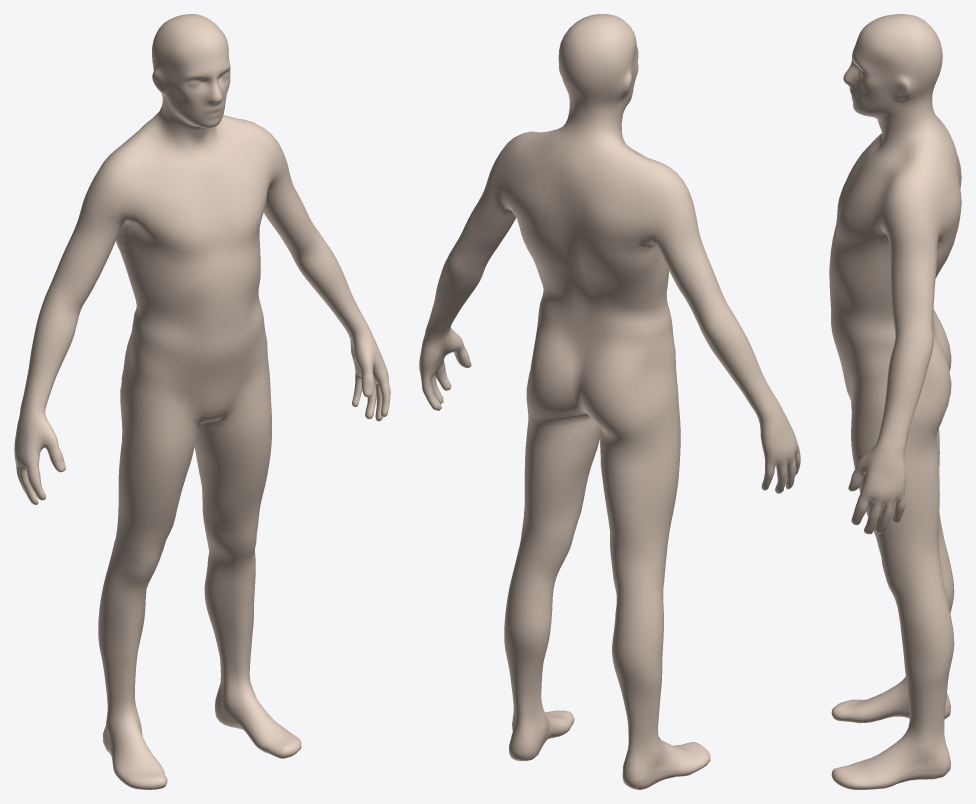
File: MayaMeshExport.fbx
3 renders of one model, left to right at view 1: azimuth 30°, elevation 25°; view 2: azimuth 150°, elevation 25°; view 3: azimuth 270°, elevation 25°, orthographic.
Parts seen in each view (by area): view 1: humanBody; view 2: humanBody; view 3: humanBody.
Boxes of the visible parts, x1,y1,x2,y2 form: humanBody: [14, 14, 390, 789]; humanBody: [419, 14, 800, 789]; humanBody: [829, 14, 961, 789].
Size of the model in its own units: 95.48 by 183 by 29.88.
